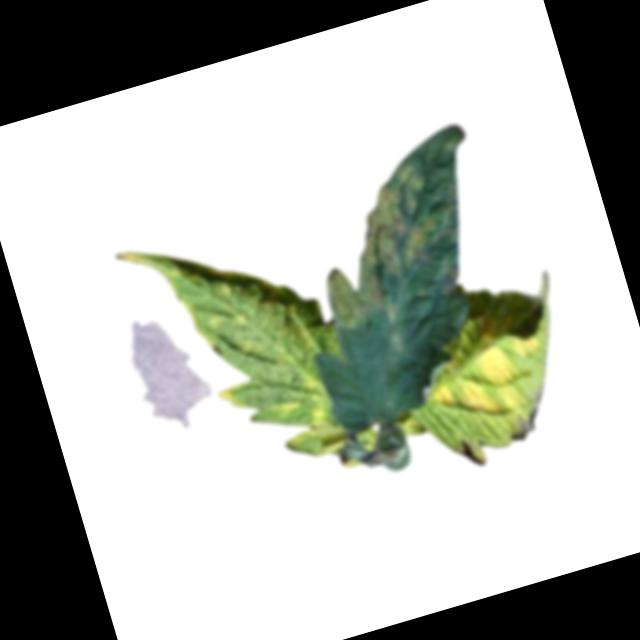Leaf_Mold: (115, 205, 357, 515), (291, 123, 510, 336), (410, 293, 568, 430)
